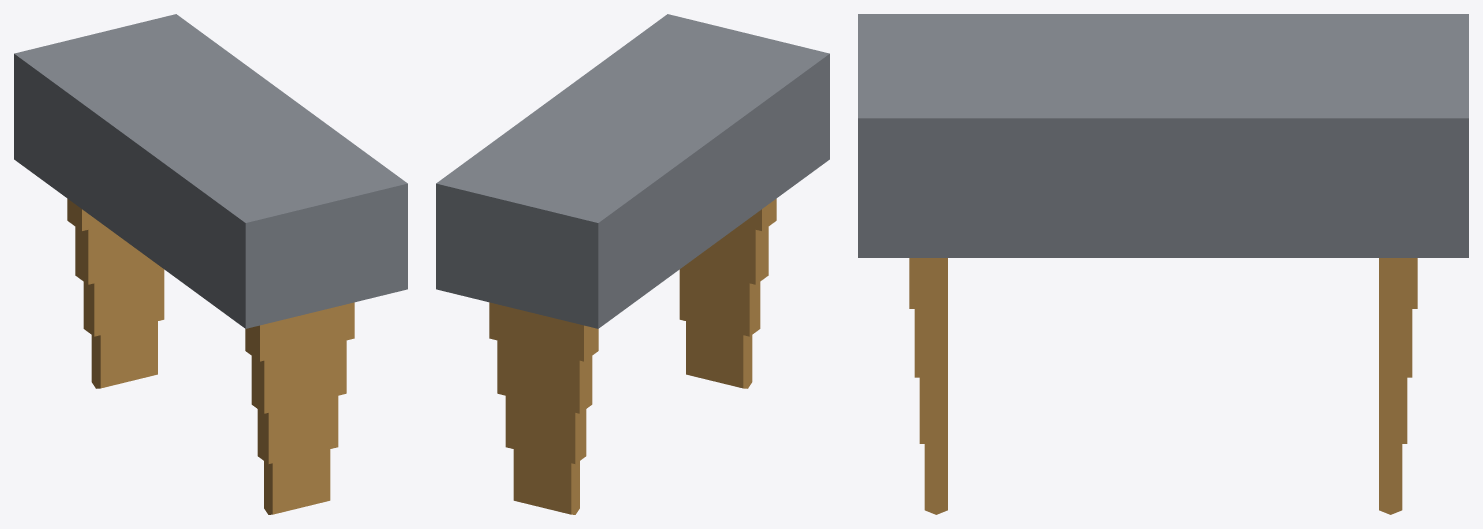
Rendered from gripper.glb.
The picture shows the model from 3 angles, left to right: view 1: azimuth 30°, elevation 25°; view 2: azimuth 150°, elevation 25°; view 3: azimuth 270°, elevation 25°; orthographic projection. The views are drawn at different scales.
Parts seen in each view (by area): view 1: palm, finger_right, finger_left; view 2: palm, finger_left, finger_right; view 3: palm, finger_left, finger_right.
Boxes of the visible parts, left/top/right/bottom form: palm: left=14, top=14, right=407, bottom=328; finger_right: left=245, top=302, right=354, bottom=514; finger_left: left=67, top=198, right=164, bottom=388; palm: left=436, top=14, right=829, bottom=328; finger_left: left=489, top=302, right=598, bottom=514; finger_right: left=679, top=198, right=776, bottom=388; palm: left=858, top=14, right=1468, bottom=257; finger_left: left=1379, top=258, right=1417, bottom=514; finger_right: left=909, top=258, right=947, bottom=514.
Bounding box in the file's own units: 0.0481 × 0.0925 × 0.119.
